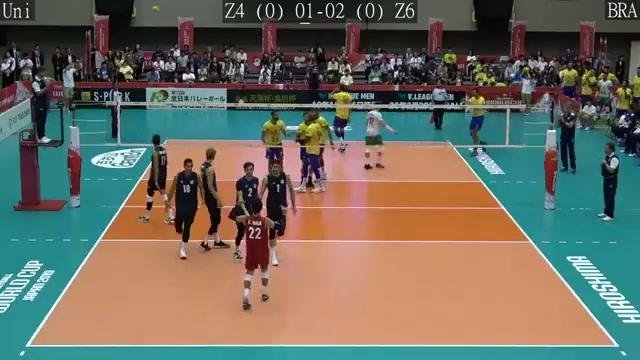ball: (151, 4, 162, 14)
